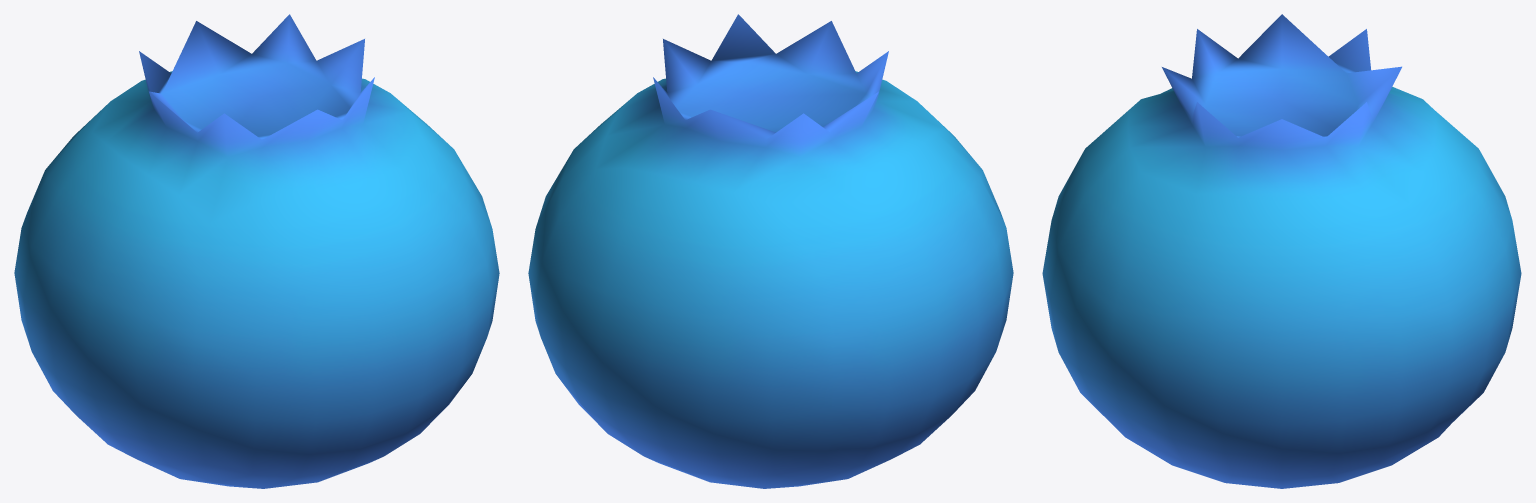
File: bloob.fbx
The picture shows the model from 3 angles, left to right: view 1: azimuth 30°, elevation 25°; view 2: azimuth 150°, elevation 25°; view 3: azimuth 270°, elevation 25°; orthographic projection.
Visible parts, largest first — view 1: Cube; view 2: Cube; view 3: Cube.
Part boxes in pixels (x1=…): Cube: x1=14, y1=14, x2=499, y2=488; Cube: x1=528, y1=14, x2=1013, y2=488; Cube: x1=1042, y1=14, x2=1521, y2=488.
Size of the model in its own units: 81.89 by 74.76 by 81.89.
